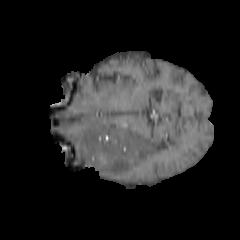glioma: (78, 118, 161, 176)
